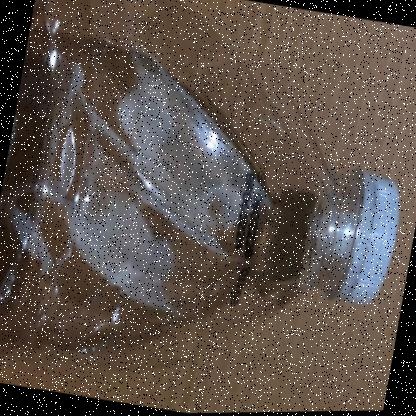bottle cap: (114, 1, 416, 415)
